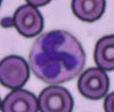N: (30, 29, 85, 84)
